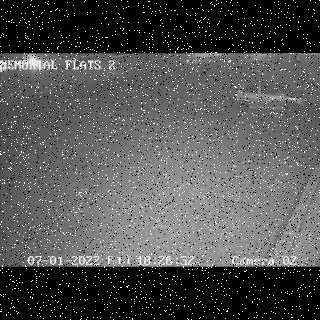car: (233, 82, 307, 115)
